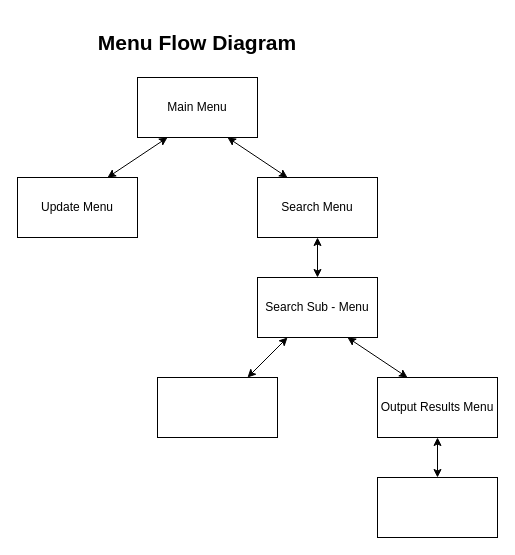
This 515x555 diagram has some shape labels left out. The shapes that lost their labels are listed below. From the top down, each one's centre as x and y in pixels, then its label:
[217,407]: Sub-Search Menu
[437,507]: Sorting Menu
